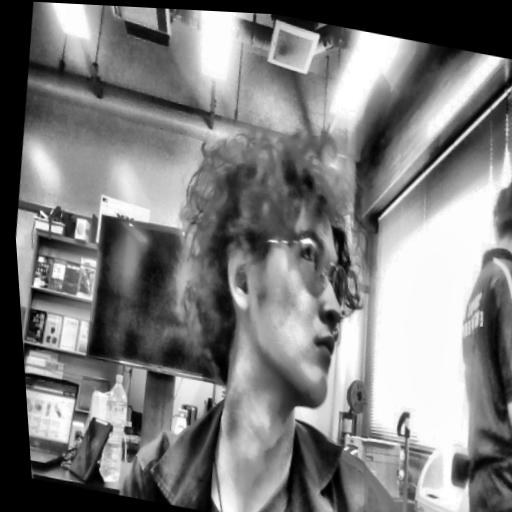Daifuku: (159, 126, 389, 423)
Not Daifuku: (483, 168, 512, 281)
